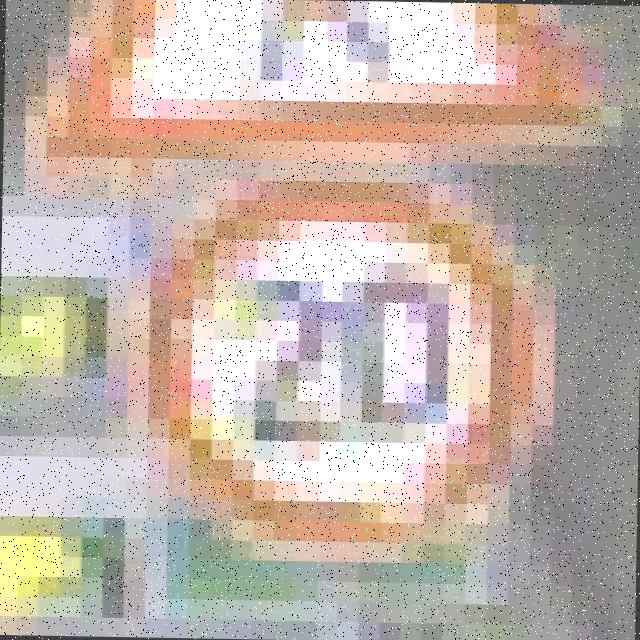Ograniczenie predkosci do 20: (81, 136, 580, 584)
